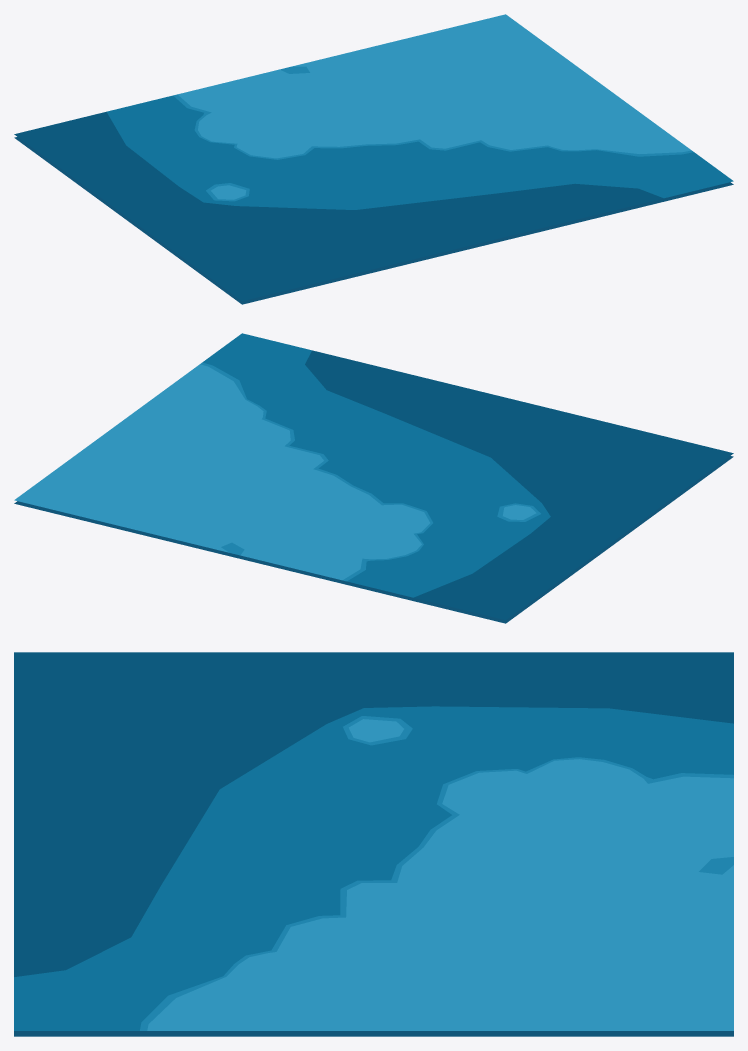
Rendered from kd_stage_1363c5_7_0_bounded.glb.
The picture shows the model from 3 angles, top to bottom: view 1: azimuth 30°, elevation 25°; view 2: azimuth 150°, elevation 25°; view 3: azimuth 270°, elevation 25°; orthographic projection. The views are drawn at different scales.
Parts seen in each view (by area): view 1: kd_stage_1363c5_7_0_bounded; view 2: kd_stage_1363c5_7_0_bounded; view 3: kd_stage_1363c5_7_0_bounded.
Part boxes in pixels (left/top/right/bottom): kd_stage_1363c5_7_0_bounded: left=14, top=14, right=733, bottom=304; kd_stage_1363c5_7_0_bounded: left=14, top=333, right=733, bottom=623; kd_stage_1363c5_7_0_bounded: left=14, top=652, right=733, bottom=1036.
Size of the model in its own units: 334 by 2.23 by 268.
Materials: 1 (1 with a texture image).
